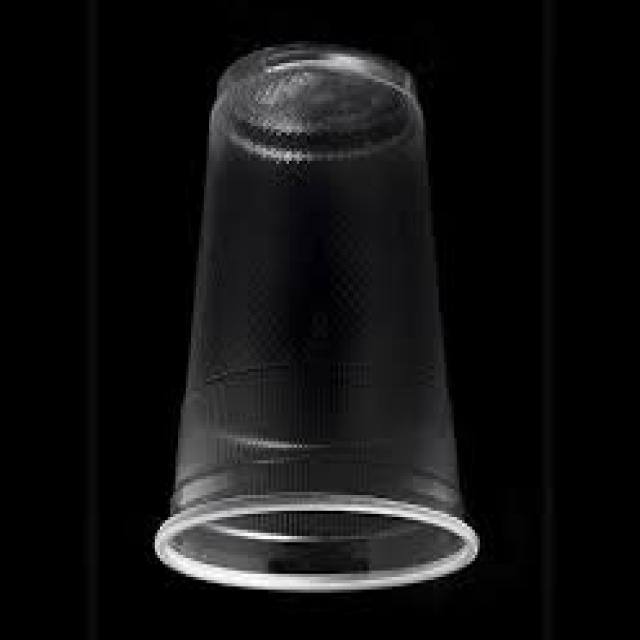plastic: (155, 44, 479, 590)
